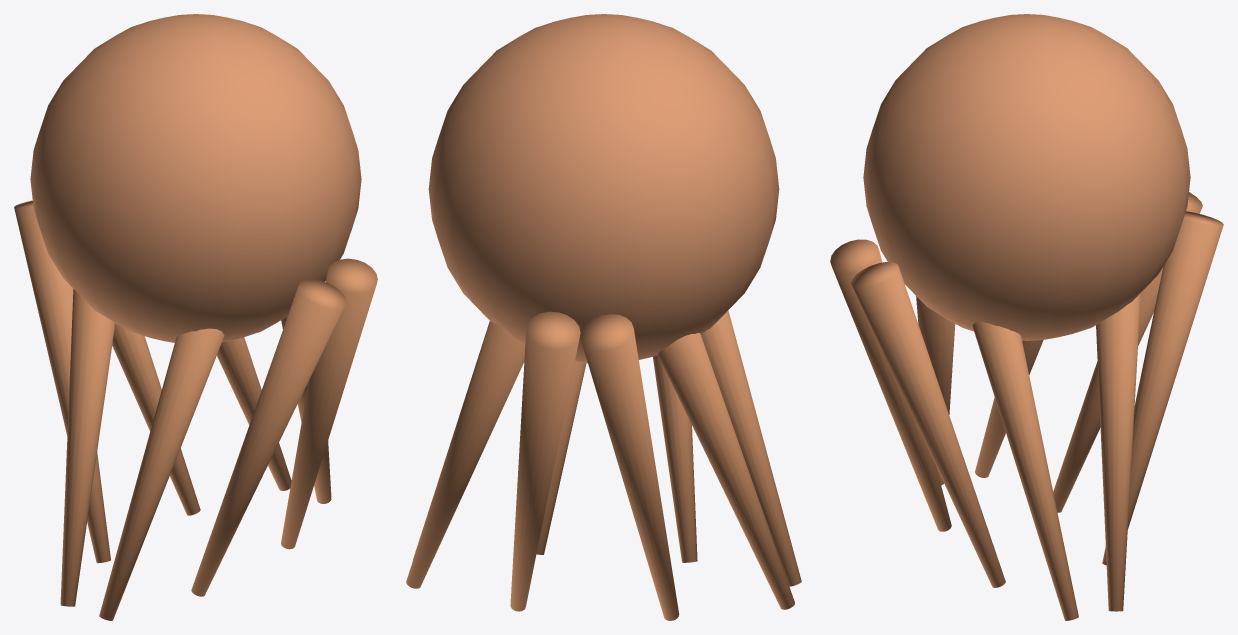
Rendered from octopus.glb.
3 views of the same model, side by side, from view 1: azimuth 30°, elevation 25°; view 2: azimuth 150°, elevation 25°; view 3: azimuth 270°, elevation 25° (orthographic). The views are drawn at different scales.
Visible parts, largest first — view 1: mantle, tent_2, tent_3, tent_4, tent_1, tent_5, tent_6, tent_7, tent_0; view 2: mantle, tent_5, tent_6, tent_4, tent_7, tent_3, tent_2, tent_1; view 3: mantle, tent_1, tent_6, tent_0, tent_7, tent_2, tent_5, tent_3, tent_4.
Part boxes in pixels (x1,y1,x2,y2): mantle: (30, 14, 361, 342); tent_2: (191, 279, 346, 596); tent_3: (99, 328, 224, 620); tent_4: (60, 289, 115, 606); tent_1: (281, 258, 377, 549); tent_5: (14, 200, 110, 563); tent_6: (112, 323, 200, 515); tent_7: (217, 337, 291, 490); tent_0: (281, 316, 331, 503); mantle: (428, 14, 779, 363); tent_5: (580, 314, 679, 620); tent_6: (510, 311, 580, 611); tent_4: (657, 333, 794, 609); tent_7: (406, 321, 525, 588); tent_3: (700, 310, 801, 586); tent_2: (653, 355, 697, 562); tent_1: (536, 361, 586, 554); mantle: (863, 14, 1190, 340); tent_1: (851, 262, 1005, 587); tent_6: (1102, 211, 1223, 565); tent_0: (972, 322, 1078, 620); tent_7: (1096, 293, 1140, 611); tent_2: (830, 239, 951, 531); tent_5: (1053, 192, 1202, 512); tent_3: (916, 296, 955, 485); tent_4: (975, 340, 1043, 477).
Size of the model in its own units: 0.9856 by 1.58 by 1.08.
